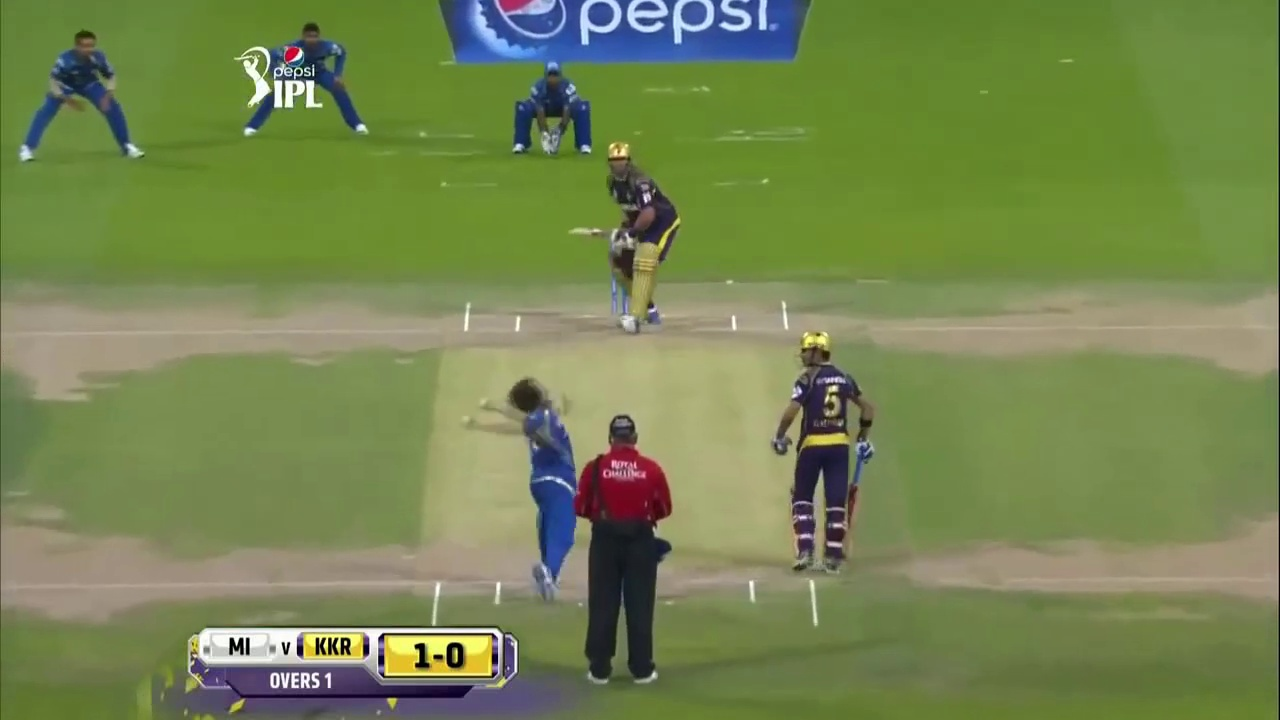bat: (852, 458, 861, 517), (568, 226, 610, 235)
